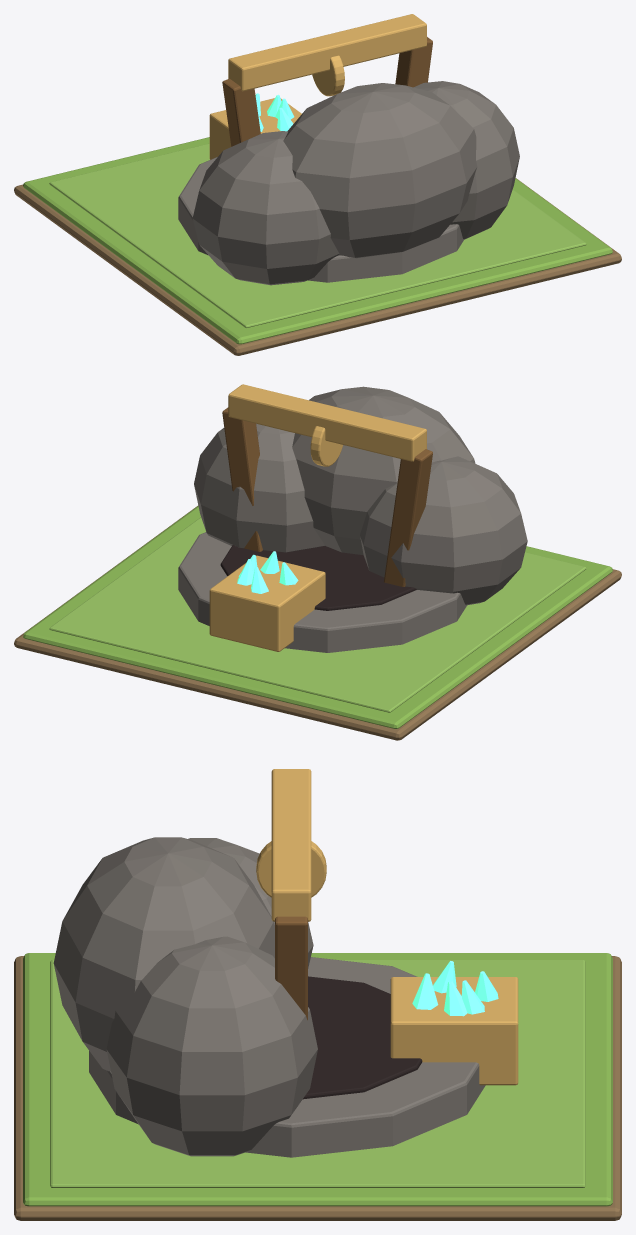
File: gem_mine_lv3.glb
3 views of the same model, one above another, from view 1: azimuth 30°, elevation 25°; view 2: azimuth 150°, elevation 25°; view 3: azimuth 270°, elevation 25° (orthographic). The views are drawn at different scales.
Parts seen in each view (by area): view 1: GemRock_2, Base_Inner, GemRock_0, Base_Grass, Base_Dirt, GemHoistBeam, GemRock_1, QuarryPitRim, GemHoistPost_-1, GemCartBody, GemHoistPost_1, GemPulley; view 2: Base_Inner, GemRock_0, Base_Grass, GemRock_2, GemRock_1, QuarryPitRim, Base_Dirt, GemCartBody, GemHoistBeam, QuarryPitHole, GemHoistPost_-1, GemHoistPost_1 (+1 smaller); view 3: Base_Inner, GemRock_1, Base_Grass, GemRock_2, QuarryPitRim, Base_Dirt, GemCartBody, QuarryPitHole, GemHoistBeam, GemHoistPost_1, GemRock_0, GemPulley.
Part boxes in pixels (bbox=[...]): GemRock_2: bbox=[283, 83, 477, 258]; Base_Inner: bbox=[49, 143, 586, 327]; GemRock_0: bbox=[192, 131, 339, 285]; Base_Grass: bbox=[23, 137, 612, 344]; Base_Dirt: bbox=[14, 178, 621, 355]; GemHoistBeam: bbox=[228, 14, 426, 91]; GemRock_1: bbox=[413, 81, 519, 239]; QuarryPitRim: bbox=[178, 157, 463, 282]; GemHoistPost_-1: bbox=[222, 78, 260, 146]; GemCartBody: bbox=[209, 98, 301, 159]; GemHoistPost_1: bbox=[395, 37, 432, 87]; GemPulley: bbox=[312, 55, 344, 96]; Base_Inner: bbox=[49, 517, 586, 712]; GemRock_0: bbox=[360, 456, 527, 605]; Base_Grass: bbox=[23, 506, 612, 728]; GemRock_2: bbox=[292, 386, 475, 555]; GemRock_1: bbox=[194, 423, 324, 552]; QuarryPitRim: bbox=[178, 532, 466, 652]; Base_Dirt: bbox=[14, 506, 621, 740]; GemCartBody: bbox=[209, 555, 325, 651]; GemHoistBeam: bbox=[228, 384, 426, 461]; QuarryPitHole: bbox=[220, 545, 416, 610]; GemHoistPost_-1: bbox=[384, 449, 432, 586]; GemHoistPost_1: bbox=[222, 407, 262, 551]; Base_Inner: bbox=[50, 960, 585, 1187]; GemRock_1: bbox=[106, 936, 317, 1156]; Base_Grass: bbox=[23, 953, 612, 1206]; GemRock_2: bbox=[53, 837, 274, 1071]; QuarryPitRim: bbox=[89, 957, 485, 1157]; Base_Dirt: bbox=[14, 956, 621, 1220]; GemCartBody: bbox=[390, 977, 518, 1085]; QuarryPitHole: bbox=[303, 976, 422, 1099]; GemHoistBeam: bbox=[271, 769, 311, 921]; GemHoistPost_1: bbox=[275, 916, 307, 1020]; GemRock_0: bbox=[188, 838, 313, 968]; GemPulley: bbox=[256, 841, 326, 897].
Size of the model in its own units: 2.76 by 1.35 by 2.76.
